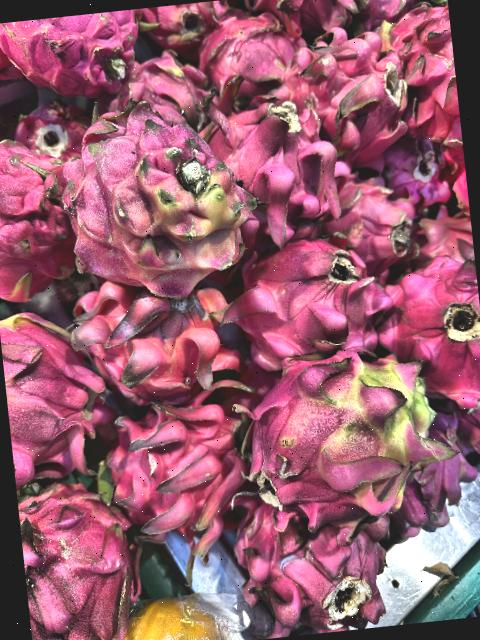buah-naga-belum-matang: (52, 99, 264, 304), (224, 336, 454, 506), (0, 298, 107, 482)
buah-naga-matang: (56, 270, 244, 433), (193, 71, 356, 242), (230, 492, 380, 638), (16, 471, 142, 640), (90, 410, 250, 540), (244, 230, 392, 366), (377, 253, 480, 411), (0, 8, 153, 104), (0, 120, 78, 307), (307, 27, 410, 154), (198, 7, 304, 100)
